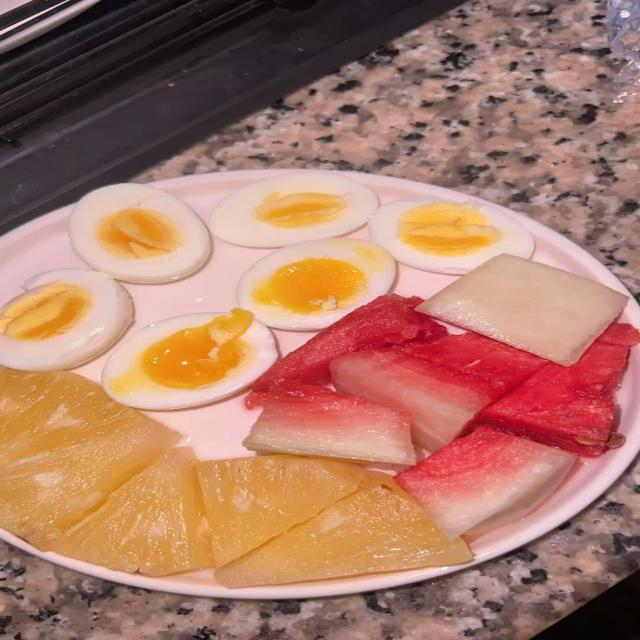eggs: (40, 180, 268, 392), (298, 157, 501, 299)
